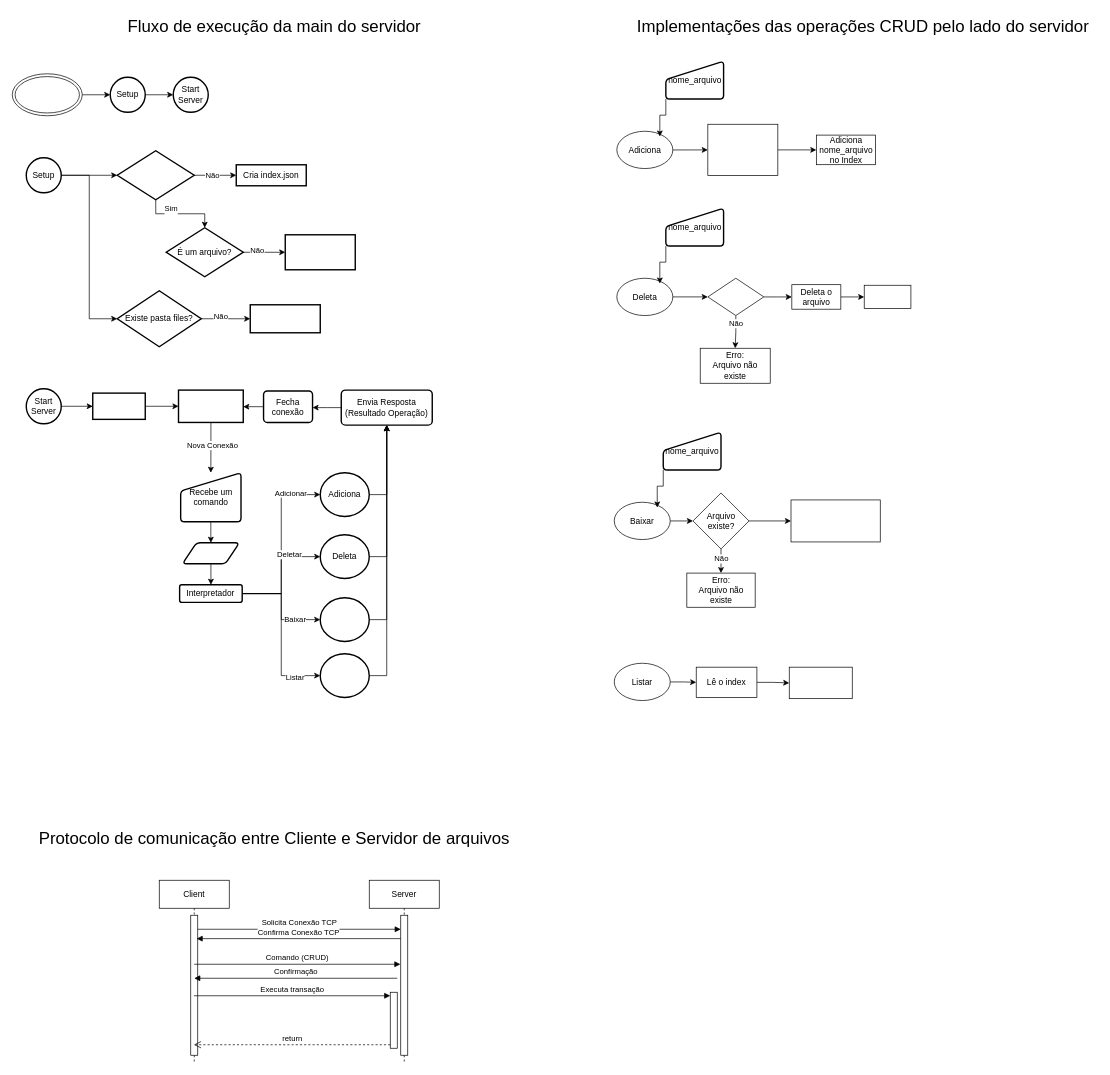
Some shapes in this 1110 by 1075 pixel diagram are drawn without their labels. The box of each missing label's shape, as (x1, y1, x2, y2) in pixels:
Aguarda por novas conexões: (177, 389, 244, 423)
Apaga e cria o arquivo index.json: (284, 234, 356, 270)
Arquivo no index?: (707, 278, 764, 316)
Baixa: (319, 597, 370, 642)
Comando: (181, 542, 240, 564)
Cria a pasta files: (249, 304, 321, 333)
Cria um socket: (92, 392, 146, 420)
Deleta do index: (864, 285, 911, 309)
Envia arquivo via Meu Protocolo de Transferencia de Arquivos: (790, 499, 880, 542)
Existe index.json?: (116, 150, 195, 200)
Lista: (319, 653, 370, 698)
Main: (12, 73, 82, 116)
Recebe via Meu Protocolo de Transferencia de Arquivos: (707, 124, 778, 176)
Retorna Lista de arquivos: (789, 666, 852, 699)
